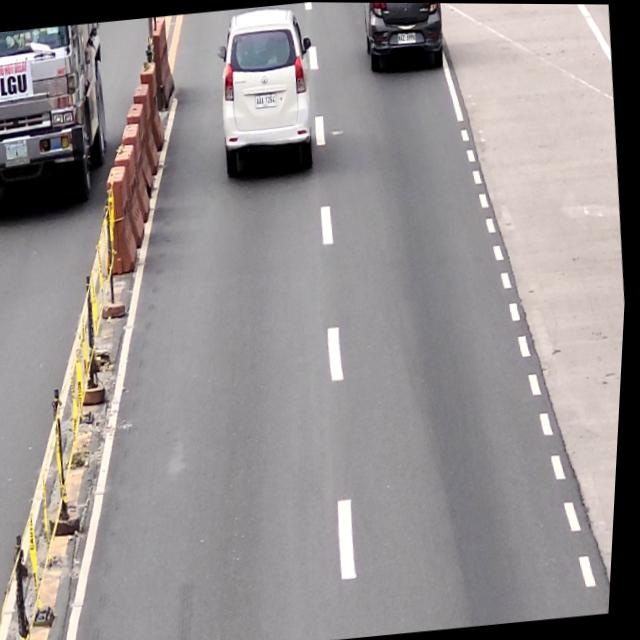Car: (209, 4, 325, 180), (359, 2, 448, 75)
License-Plate: (254, 91, 278, 109), (396, 28, 416, 44)
